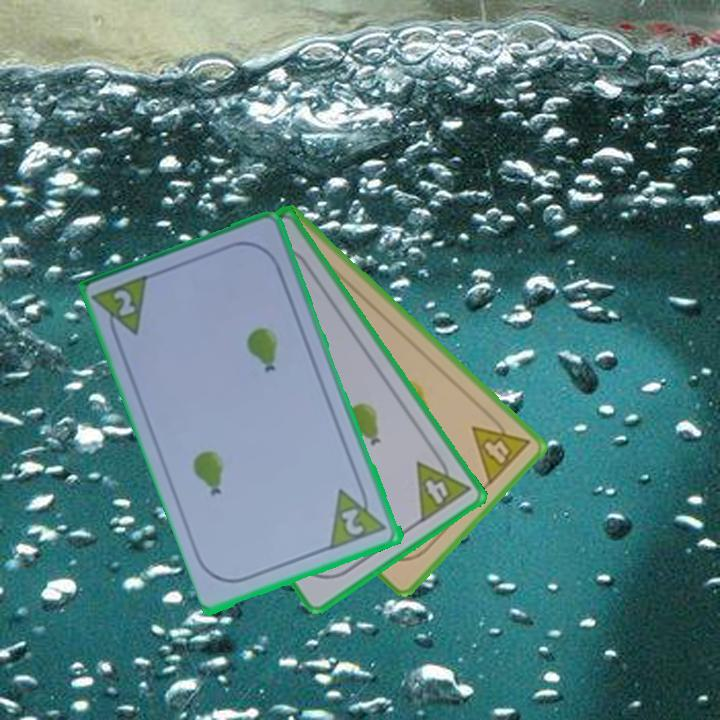2p: (91, 270, 154, 347), (327, 479, 391, 553)
4p: (468, 407, 533, 488), (413, 447, 474, 526)
